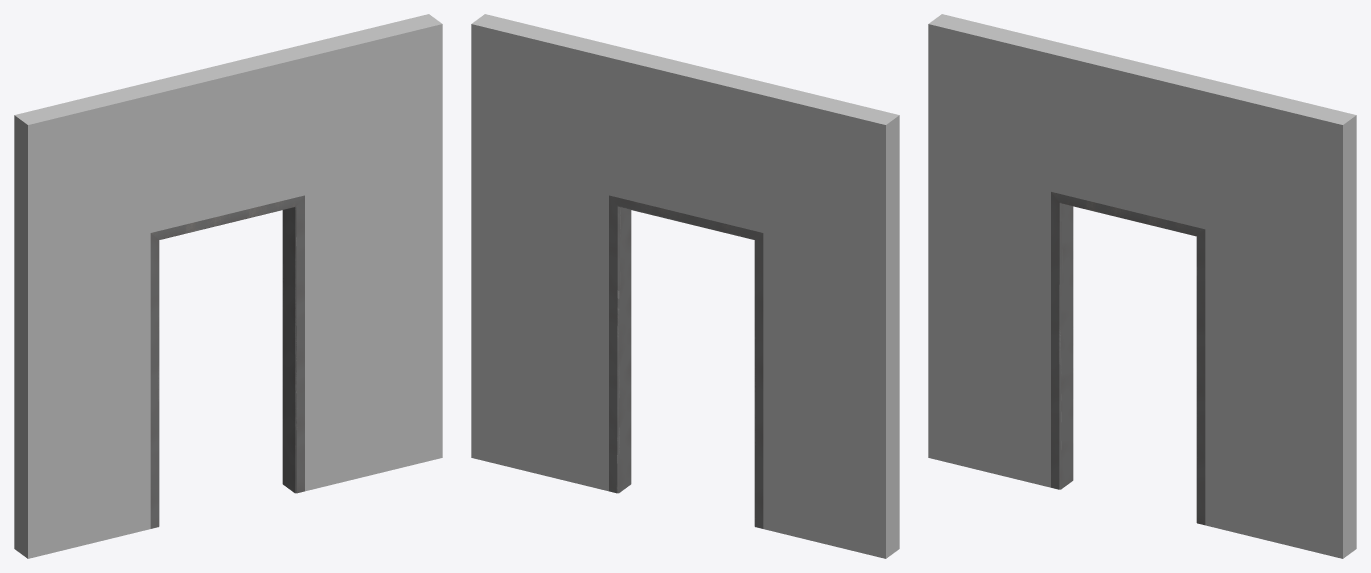
Rendered from SM_Wall_Interior_Door_Middle_Capped.fbx.
The picture shows the model from 3 angles, left to right: view 1: azimuth 30°, elevation 25°; view 2: azimuth 150°, elevation 25°; view 3: azimuth 330°, elevation 25°; orthographic projection.
Visible parts, largest first — view 1: SM_Wall_Interior_Door_Middle_Capped; view 2: SM_Wall_Interior_Door_Middle_Capped; view 3: SM_Wall_Interior_Door_Middle_Capped.
Boxes of the visible parts, box(x1,y1,x2,y2) form: SM_Wall_Interior_Door_Middle_Capped: box(14, 14, 442, 558); SM_Wall_Interior_Door_Middle_Capped: box(471, 14, 899, 558); SM_Wall_Interior_Door_Middle_Capped: box(928, 14, 1356, 558).
Size of the model in its own units: 350 by 20 by 350.
2 materials, 1 textured.
